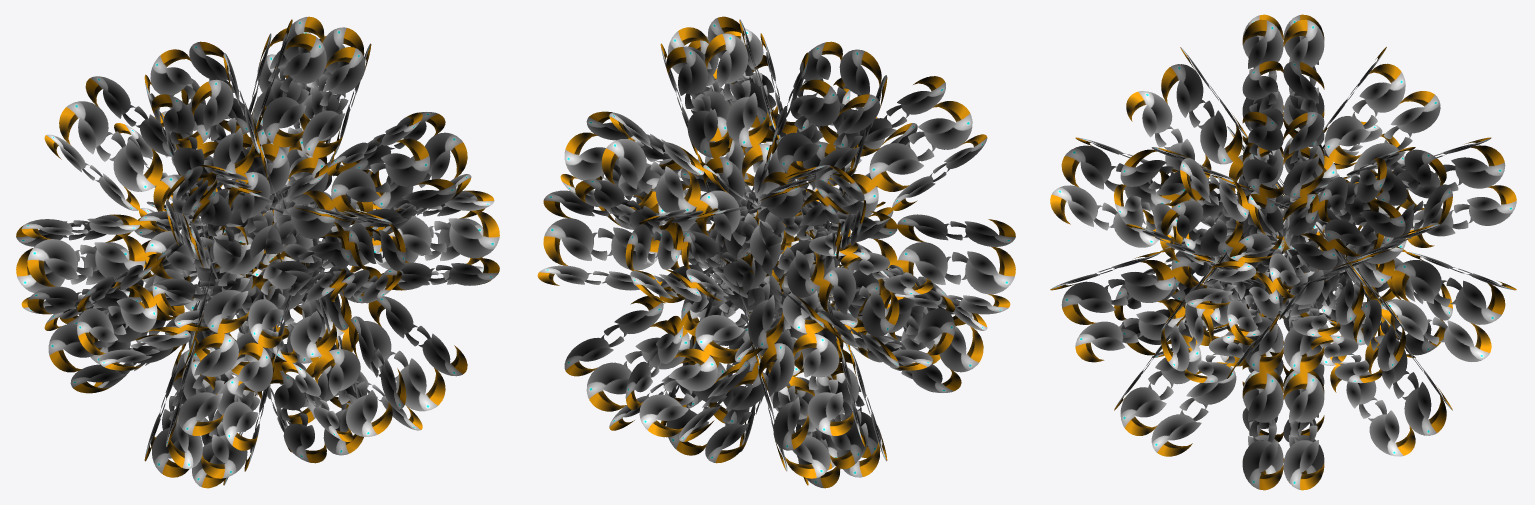
Rendered from GreatDodecahemicosacron26.gltf.
3 views of the same model, side by side, from view 1: azimuth 30°, elevation 25°; view 2: azimuth 150°, elevation 25°; view 3: azimuth 270°, elevation 25° (orthographic).
Visible parts, largest first — view 1: GreatDodecahemicosacron1; view 2: GreatDodecahemicosacron1; view 3: GreatDodecahemicosacron1.
Boxes of the visible parts, x1=… form: GreatDodecahemicosacron1: x1=16, y1=16, x2=499, y2=488; GreatDodecahemicosacron1: x1=537, y1=16, x2=1015, y2=488; GreatDodecahemicosacron1: x1=1050, y1=14, x2=1516, y2=490.
Size of the model in its own units: 10.06 by 10.06 by 10.06.
Materials: 1 (1 with a texture image).
